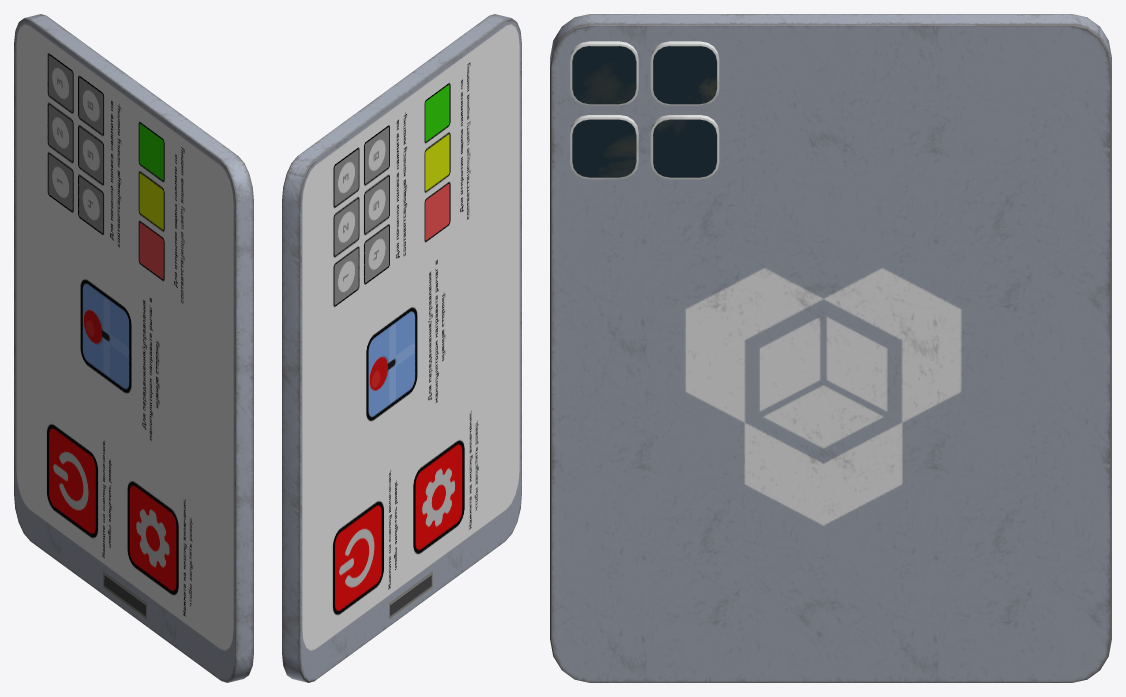
Rendered from Ipad.fbx.
3 views of the same model, side by side, from view 1: azimuth 30°, elevation 25°; view 2: azimuth 150°, elevation 25°; view 3: azimuth 270°, elevation 25° (orthographic). The views are drawn at different scales.
Parts seen in each view (by area): view 1: Cube; view 2: Cube; view 3: Cube, Cube.003, Cube.005, Cube.004, Cube.001.
Boxes of the visible parts, bbox=[...] form: Cube: bbox=[14, 14, 253, 682]; Cube: bbox=[282, 14, 521, 682]; Cube: bbox=[550, 14, 1111, 682]; Cube.003: bbox=[650, 41, 719, 105]; Cube.005: bbox=[650, 115, 719, 179]; Cube.004: bbox=[570, 115, 638, 179]; Cube.001: bbox=[570, 41, 638, 105].
Size of the model in its own units: 9.81 by 218 by 169.
Materials: 5 (5 with a texture image).
